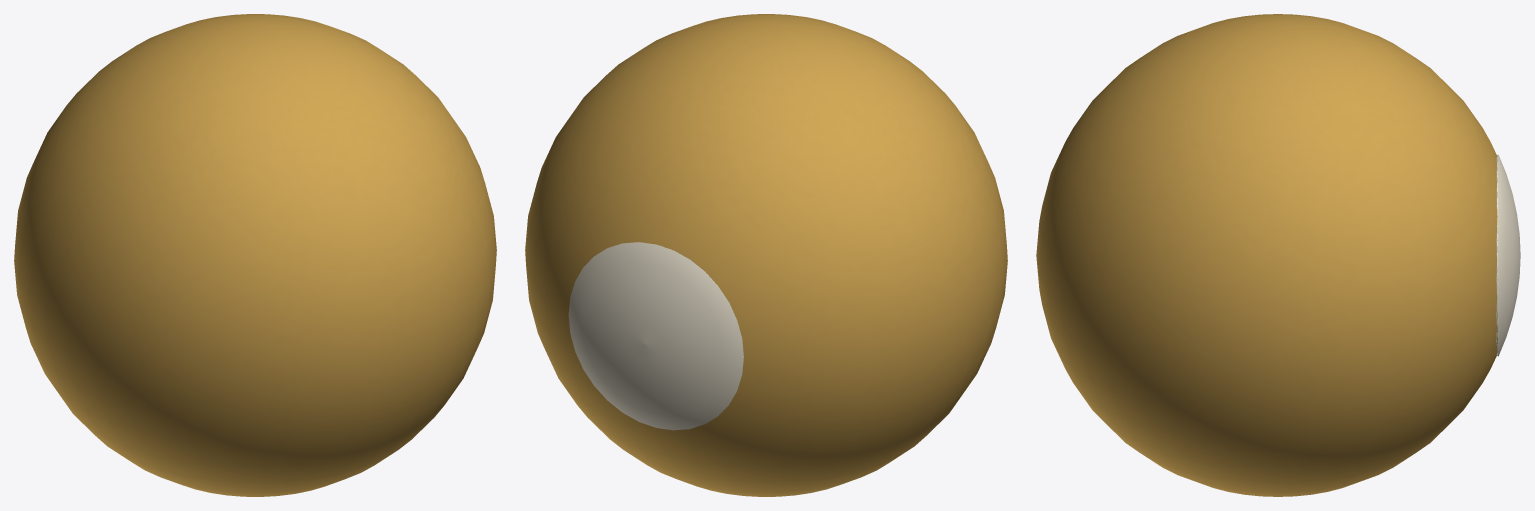
The model's file is ball.glb.
3 renders of one model, left to right at view 1: azimuth 30°, elevation 25°; view 2: azimuth 150°, elevation 25°; view 3: azimuth 270°, elevation 25°, orthographic.
Parts seen in each view (by area): view 1: Ball; view 2: Ball, NumberDisc; view 3: Ball, NumberDisc.
Part boxes in pixels (x1,y1,x2,y2): Ball: (14,14,496,496); Ball: (525,14,1007,496); NumberDisc: (568,242,743,430); Ball: (1036,14,1497,496); NumberDisc: (1496,154,1520,356).
Size of the model in its own units: 0.12 by 0.12 by 0.1202.
2 materials, 2 textured.
